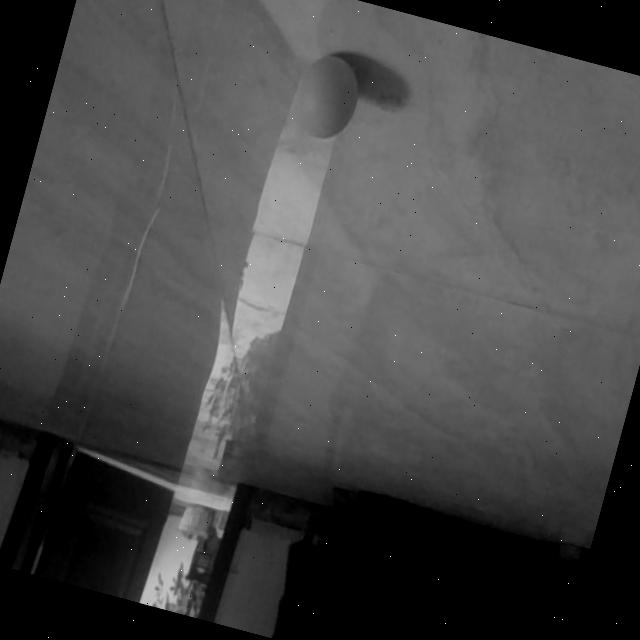ping-pong-ball: (286, 49, 366, 140)
